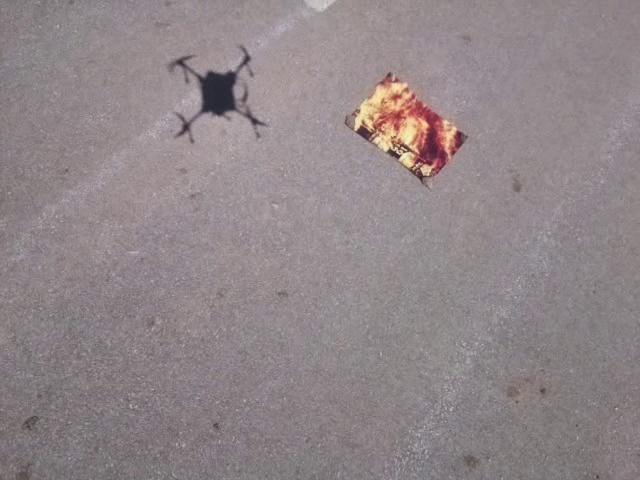fire-poster: (342, 69, 469, 190)
